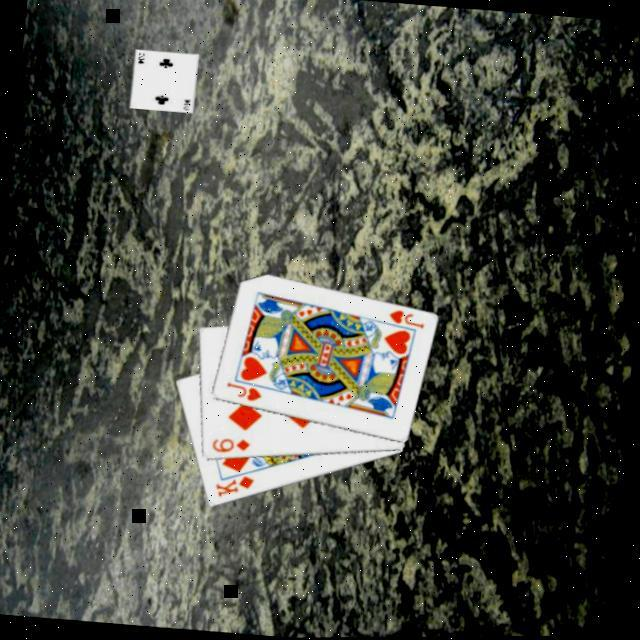6D: (208, 432, 254, 456)
JH: (222, 378, 265, 403), (385, 306, 428, 330)
KD: (212, 469, 258, 502)
